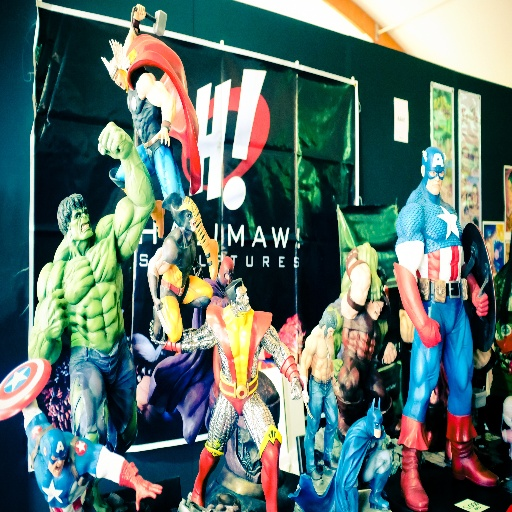hand: (37, 286, 69, 339), (92, 111, 126, 158), (135, 476, 162, 511), (417, 315, 441, 346), (469, 288, 488, 318), (381, 341, 398, 364), (289, 376, 303, 401), (344, 245, 357, 270), (155, 129, 170, 148), (132, 1, 145, 22), (153, 297, 163, 313), (192, 263, 202, 277), (301, 391, 309, 405)
